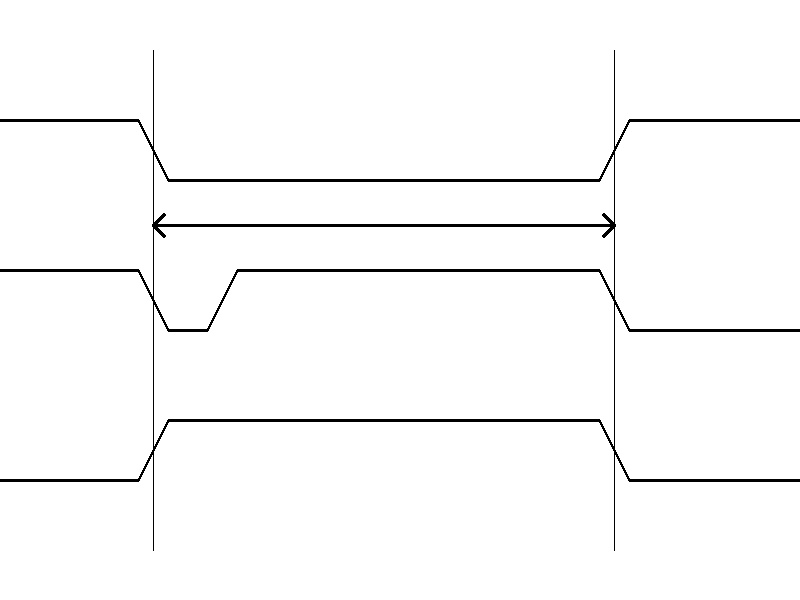double_arrow: (153, 210, 614, 240)
